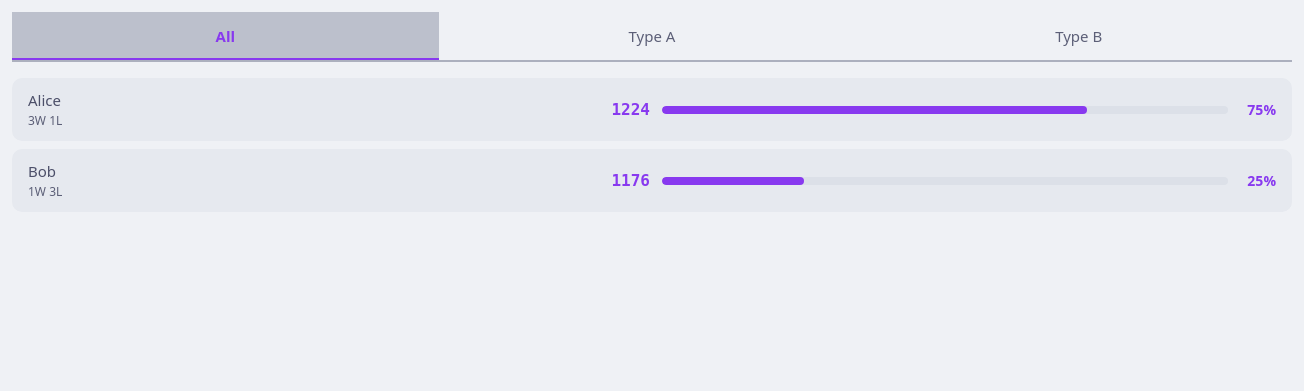
Test case: StatsScreen › shows the empty state for a player with no trophy
This screenshot has width=1304, height=391.
What coordinates should you click on to do the following:
click the tab "Type A"
I would click on:
 (652, 36)
Its box is [439,12,865,60].
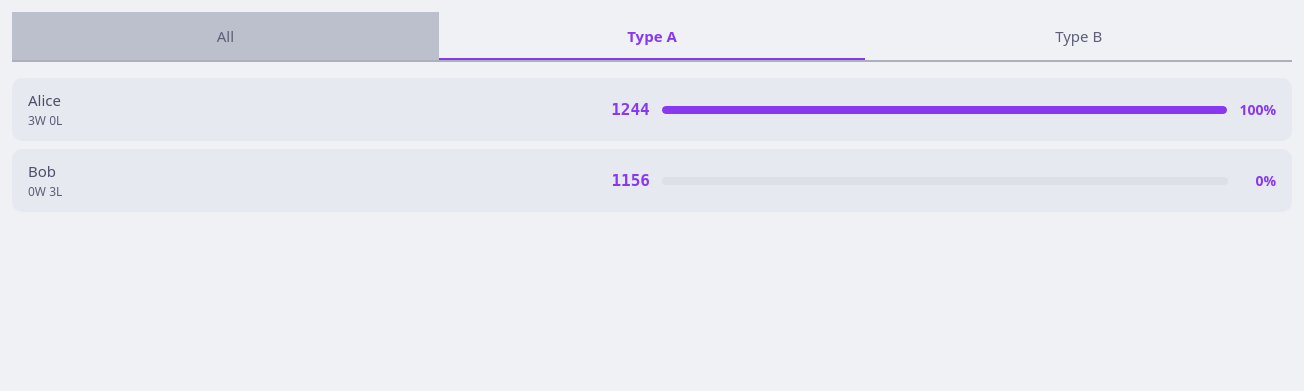
What coordinates should you click on to do the following:
click the text "Bob"
I would click on:
 (42, 171)
Its box is [28,161,56,181].
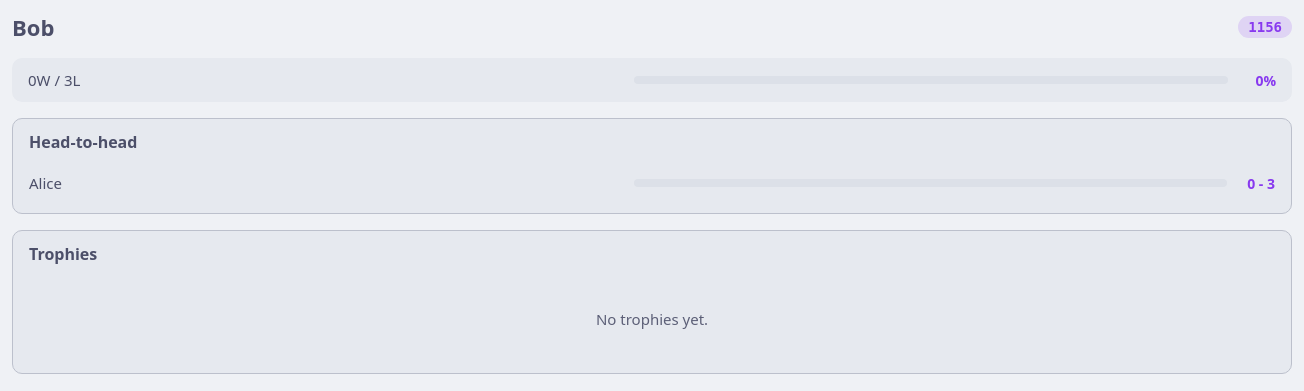
Expected: the text "No trophies yet." is shown, [596,309,708,329]
